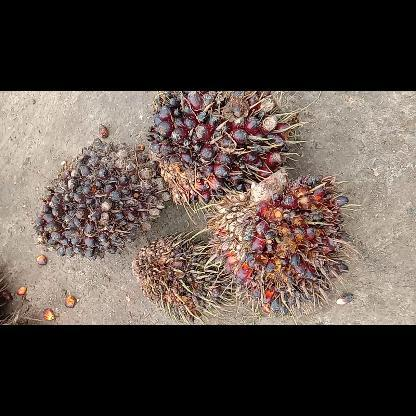Kurang masak: (148, 90, 292, 206), (36, 139, 171, 259)
TBS abnormal: (132, 232, 232, 322)
TBS masak: (206, 169, 350, 310)
